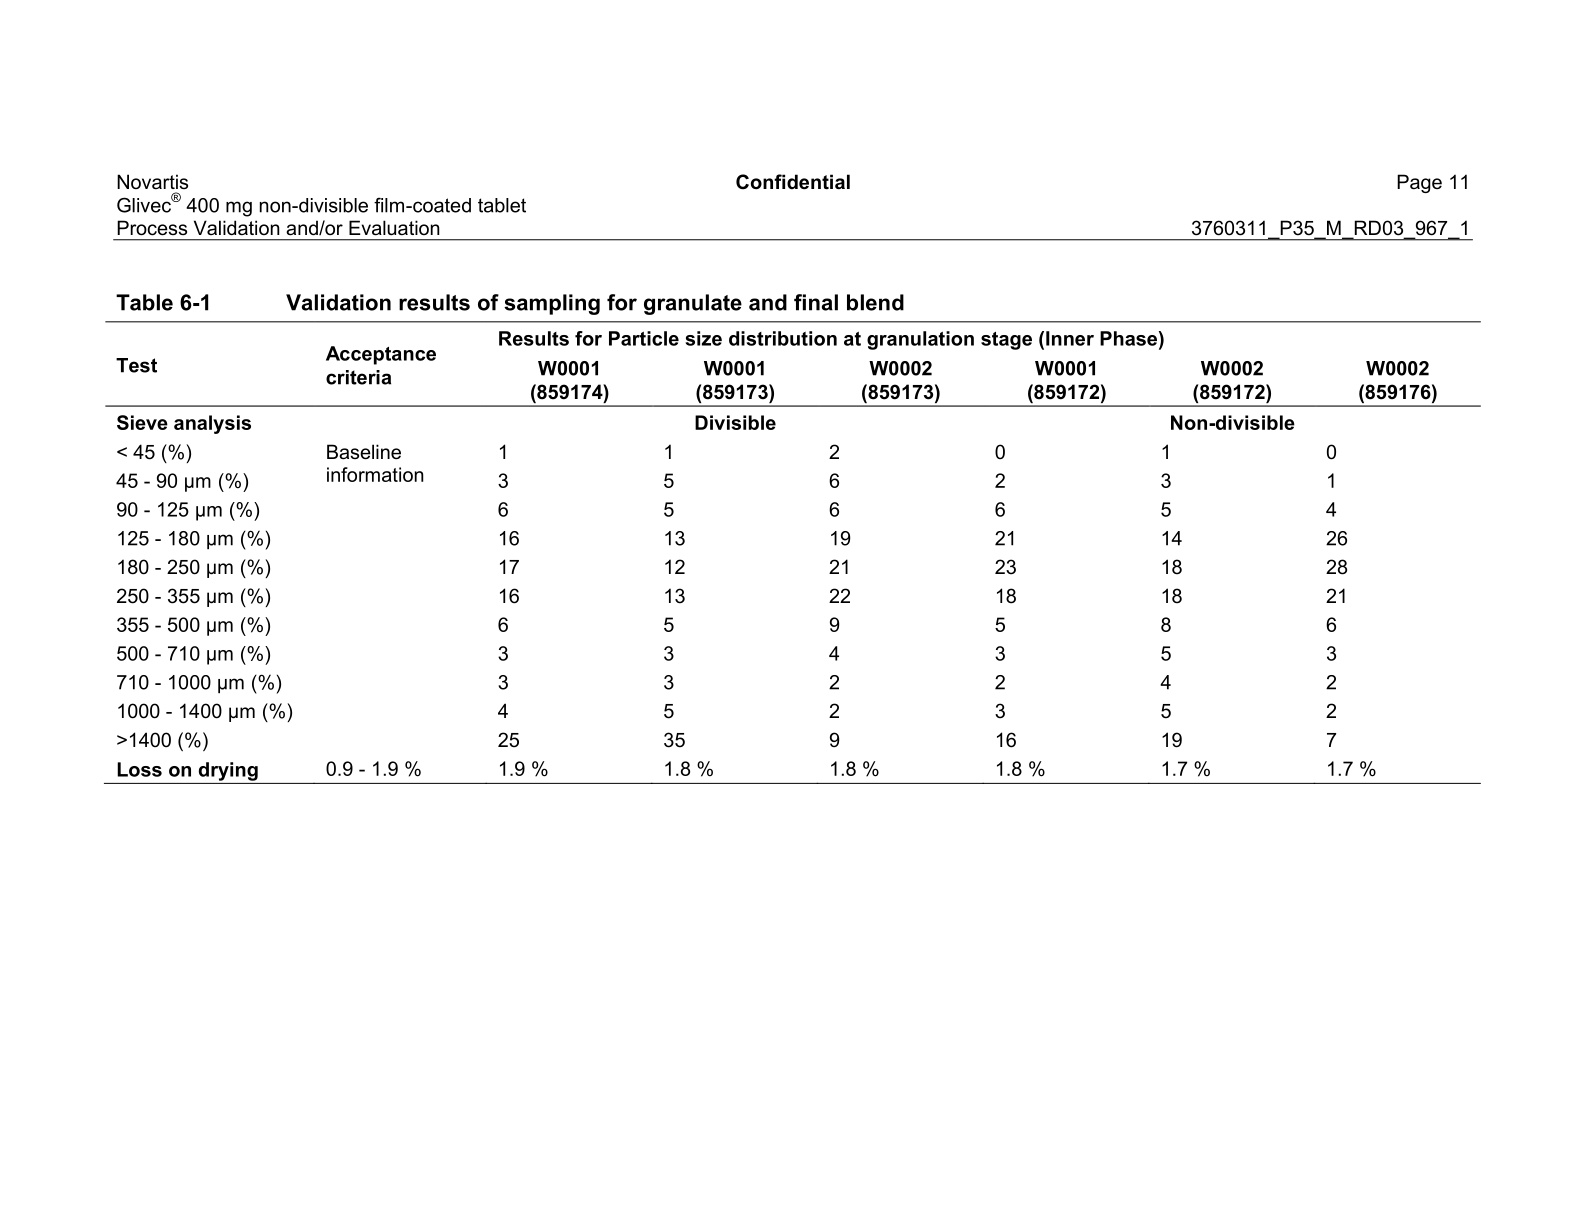partial_lined_merged_cells: (104, 320, 1482, 786)
